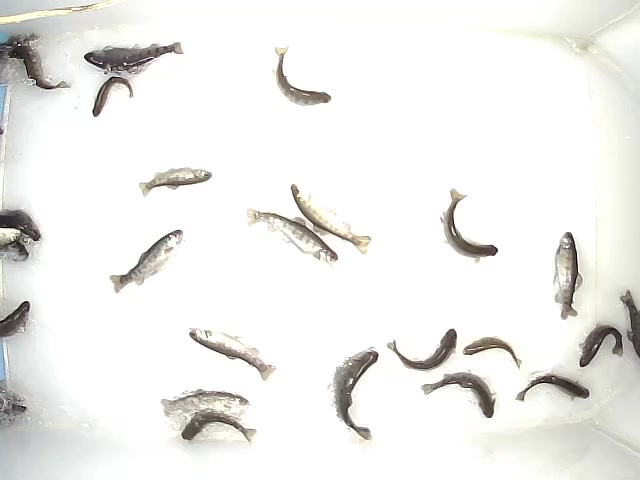fish: (289, 182, 372, 258), (243, 204, 341, 264), (326, 348, 382, 440), (184, 326, 276, 382), (109, 229, 182, 296), (439, 188, 498, 264), (81, 37, 184, 78), (420, 370, 494, 422), (273, 45, 331, 108), (386, 327, 459, 374), (159, 387, 250, 420), (551, 229, 583, 319), (178, 408, 258, 444), (513, 370, 591, 402), (459, 333, 524, 370), (576, 322, 625, 369), (139, 166, 212, 197), (90, 76, 135, 117)
